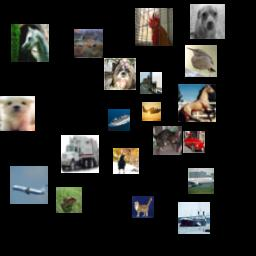airplane: (10, 166, 48, 204), (188, 168, 214, 194), (142, 102, 161, 121)
automobile: (183, 131, 205, 153)
bird: (135, 8, 173, 46), (185, 45, 217, 77), (113, 148, 139, 174)
cat: (153, 126, 182, 155), (132, 196, 154, 218)
deer: (74, 29, 103, 58)
dog: (190, 4, 225, 39), (0, 96, 35, 131), (104, 58, 136, 90)
frog: (56, 187, 82, 213)
ship: (178, 202, 210, 234), (108, 109, 130, 131)
truck: (61, 135, 99, 173), (140, 72, 162, 94)
